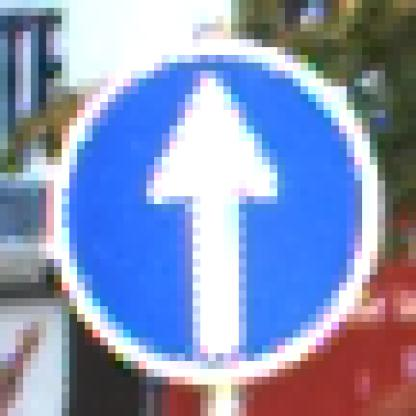AheadOnly: (47, 40, 379, 378)
